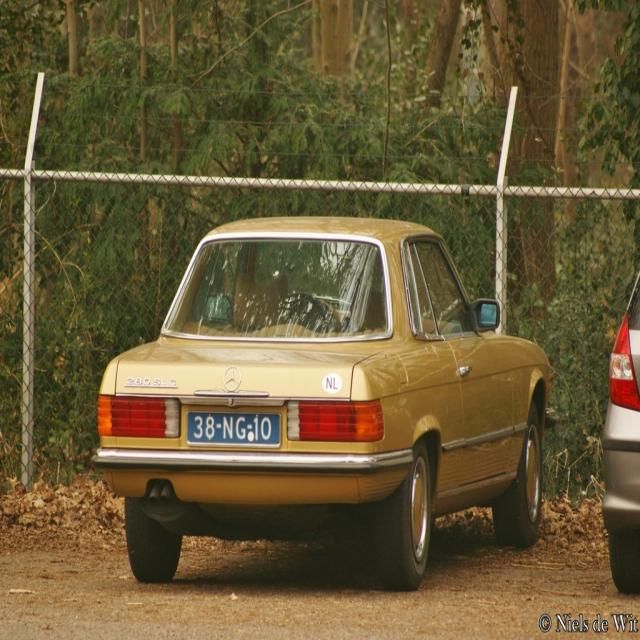car: (81, 221, 554, 602)
